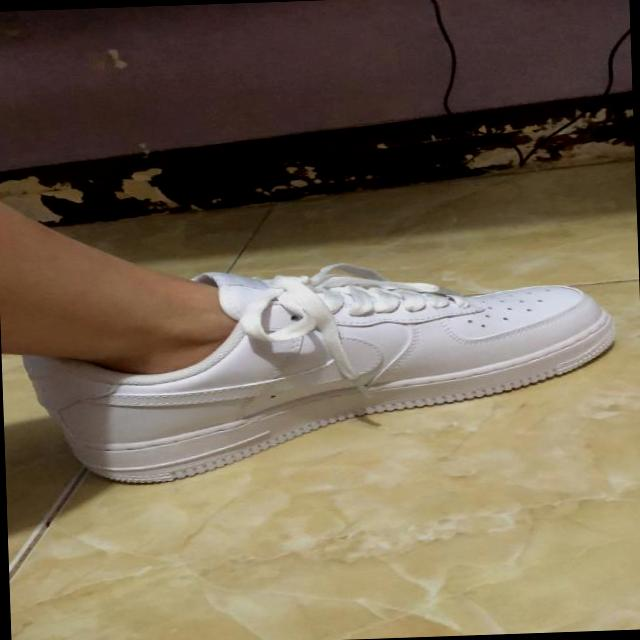nike_original_airforce: (20, 253, 630, 491)
